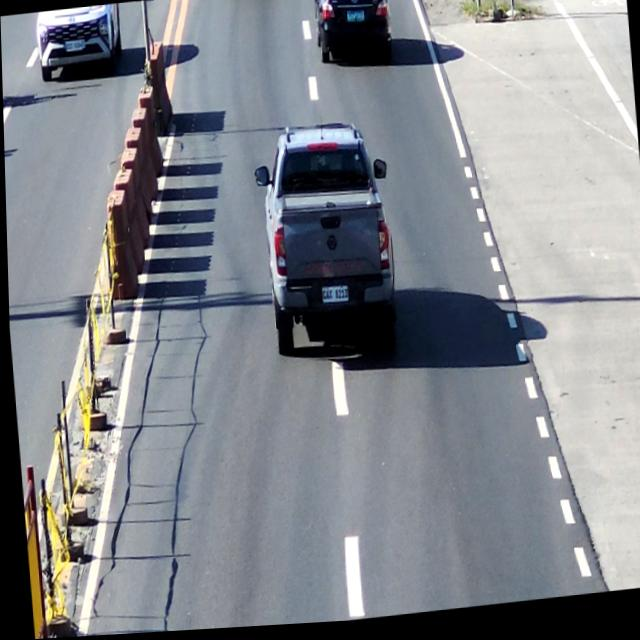Car: (256, 119, 405, 371), (36, 4, 126, 85), (312, 0, 396, 74)
License-Plate: (319, 284, 352, 316), (344, 9, 370, 32), (62, 35, 88, 55)
